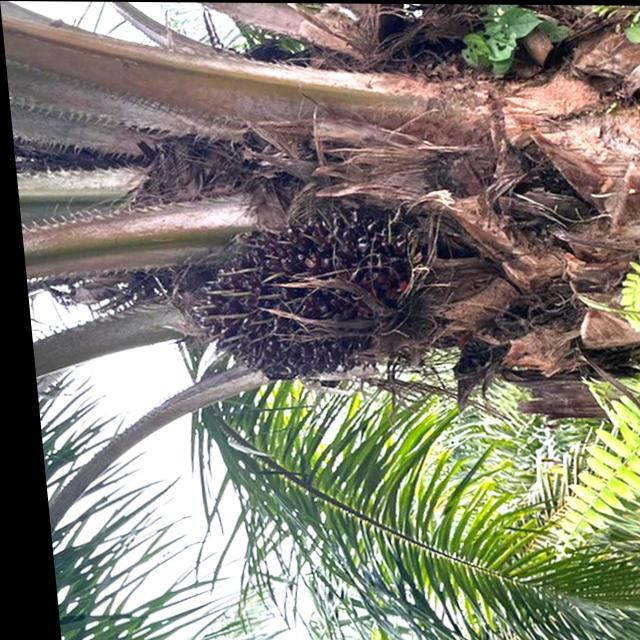ripe: (168, 196, 445, 395)
